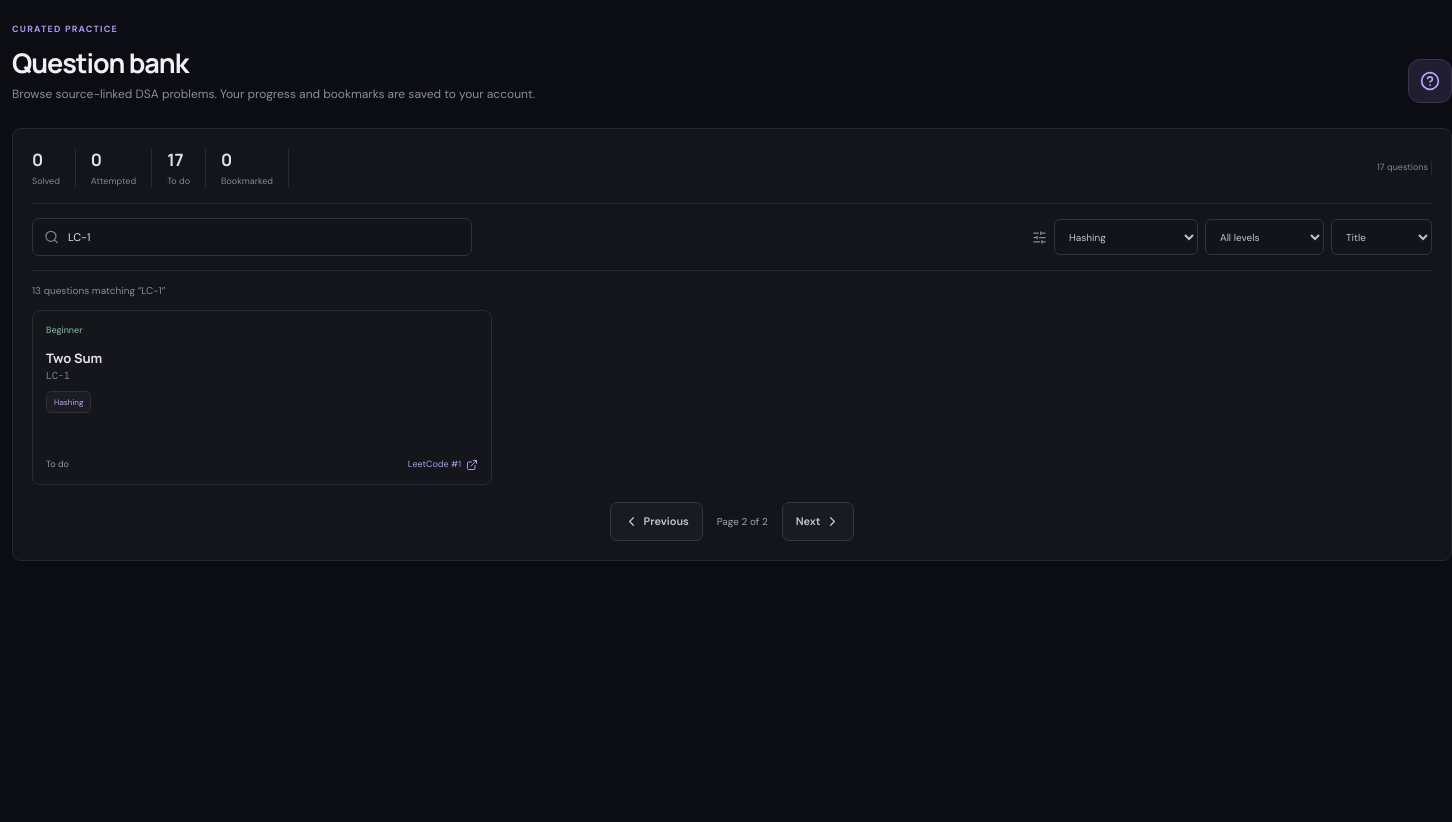
Test case: question bank and detail navigation › opens a card and returns to the same filtered, paginated URL
Click the link "Beginner Two Sum LC-1 Hashing To do LeetCode #1" at (64, 330), box [32,310,492,485]
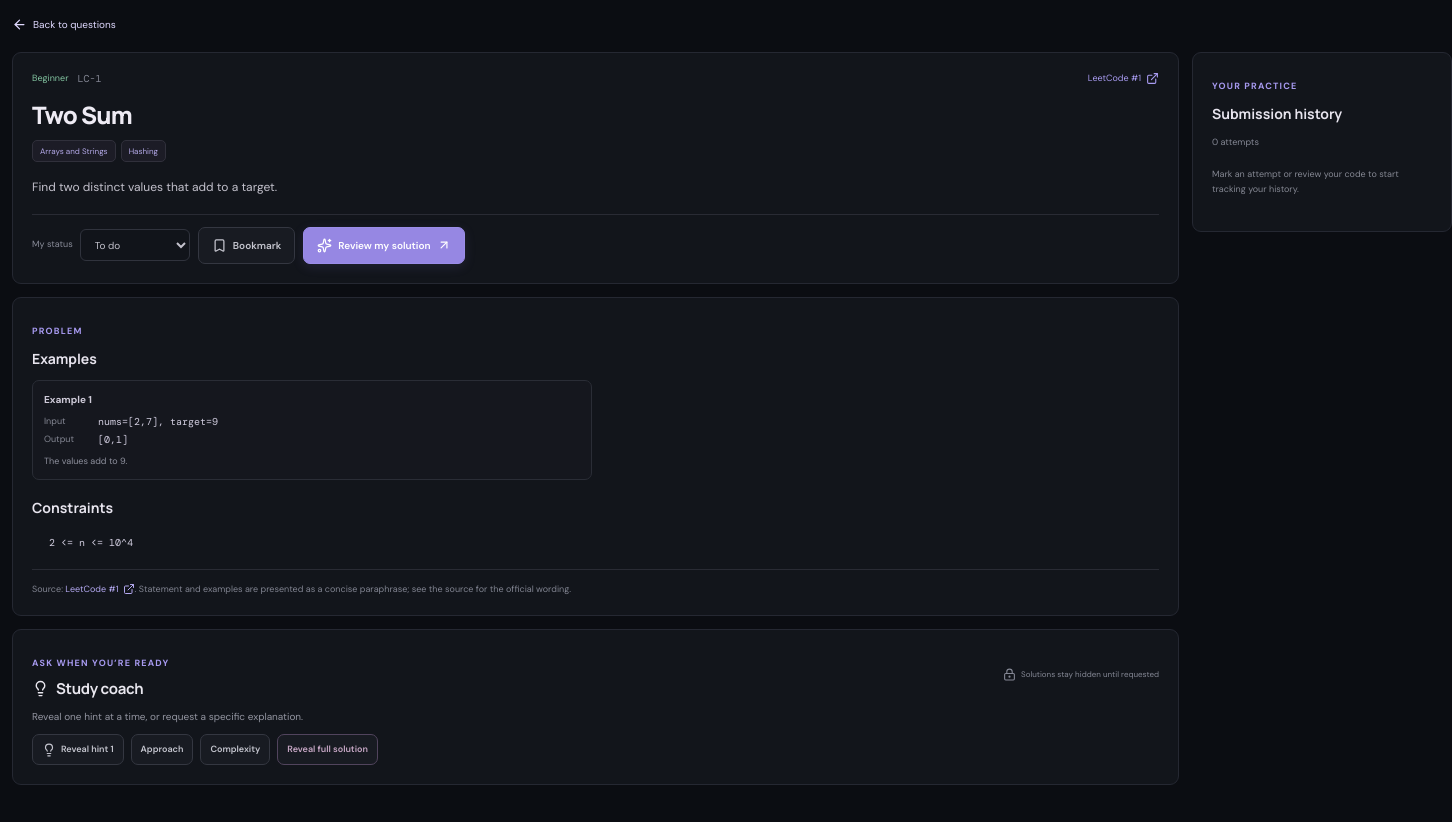
Result: the heading "Two Sum" is shown at [32,98,132,130]
Click the button "Back to questions" at (64, 24), box [12,12,116,37]
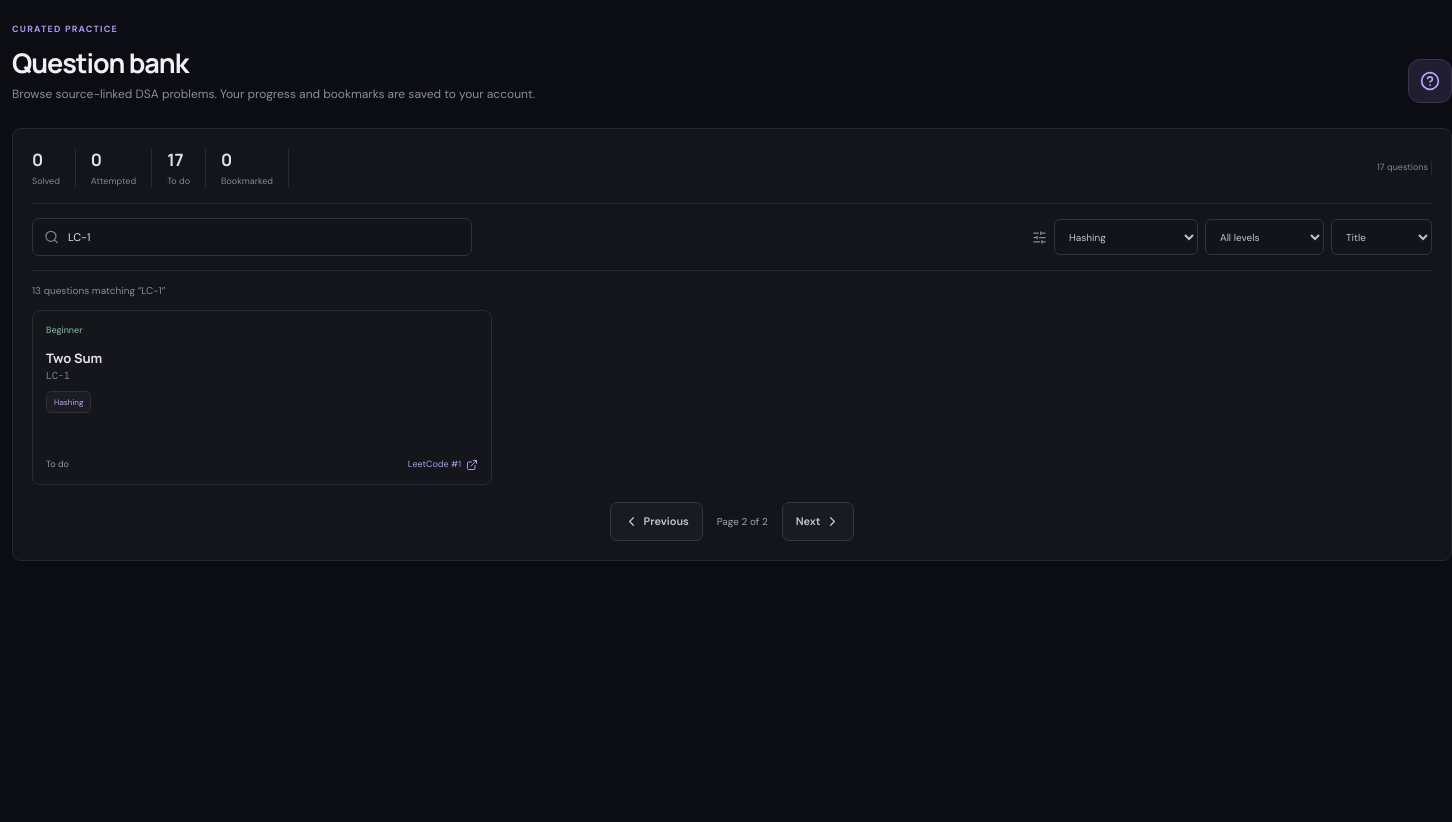
Result: the field named "Search questions" holds "LC-1" at [68,229,460,246]
